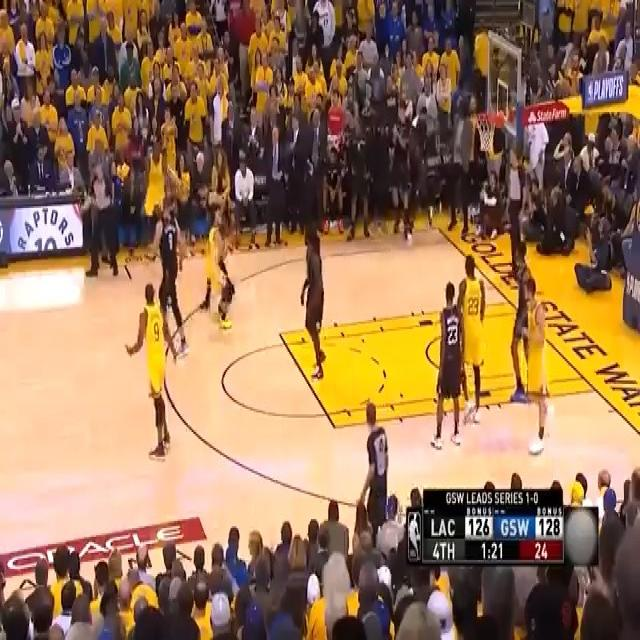hoop: (473, 110, 498, 156)
